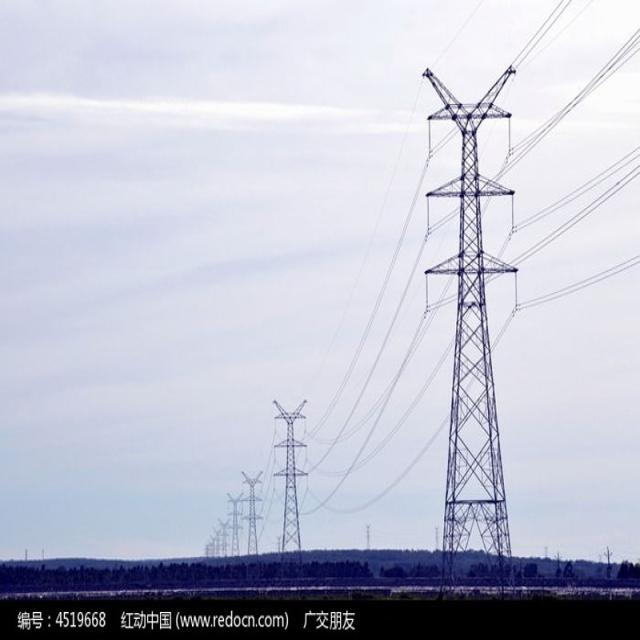non-critical vegetation: (418, 49, 530, 579), (270, 383, 310, 564), (241, 466, 265, 547)
